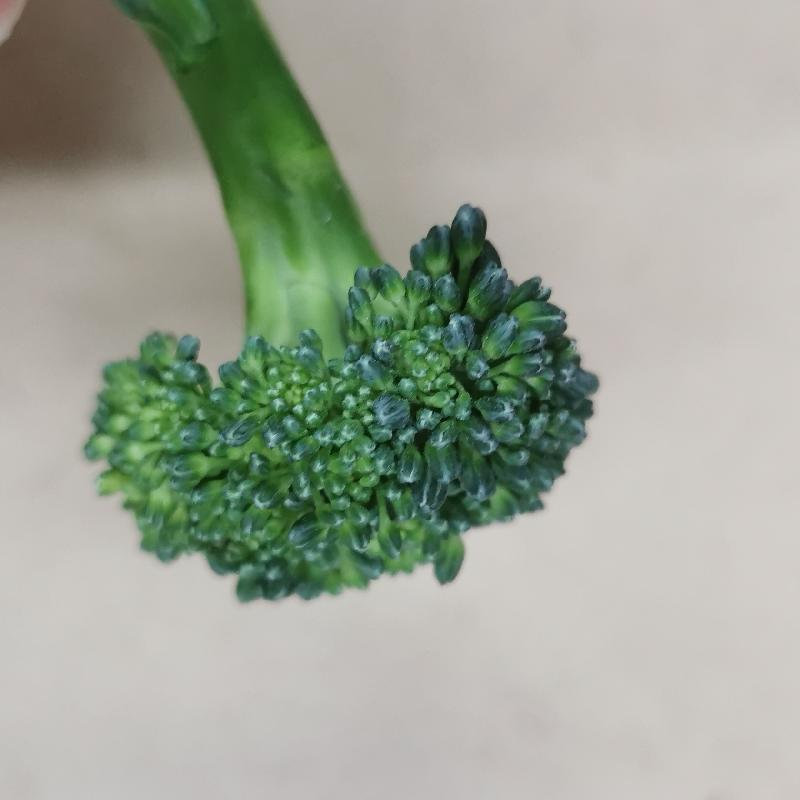broccoli: (49, 1, 604, 608)
